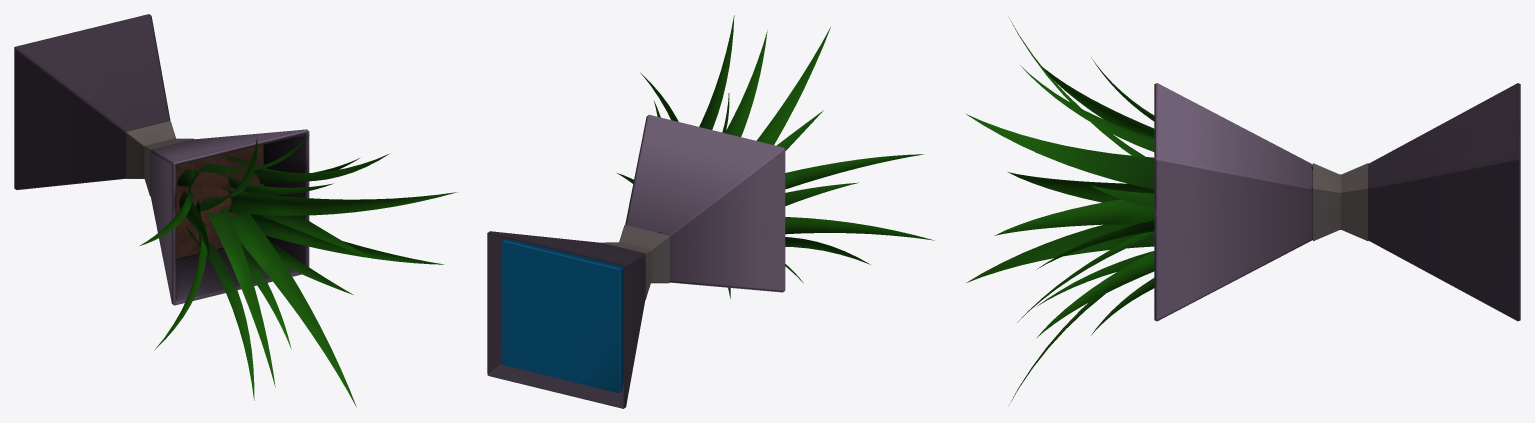
3 renders of one model, left to right at view 1: azimuth 30°, elevation 25°; view 2: azimuth 150°, elevation 25°; view 3: azimuth 270°, elevation 25°, orthographic. The views are drawn at different scales.
Visible parts, largest first — view 1: object_0; view 2: object_0; view 3: object_0.
Boxes of the visible parts, x1,y1,x2,y2 form: object_0: (14, 14, 457, 407); object_0: (487, 15, 934, 408); object_0: (966, 18, 1520, 404).
Bounding box in the file's own units: 43.54 × 40.09 × 59.6.
Materials: 1 (1 with a texture image).
